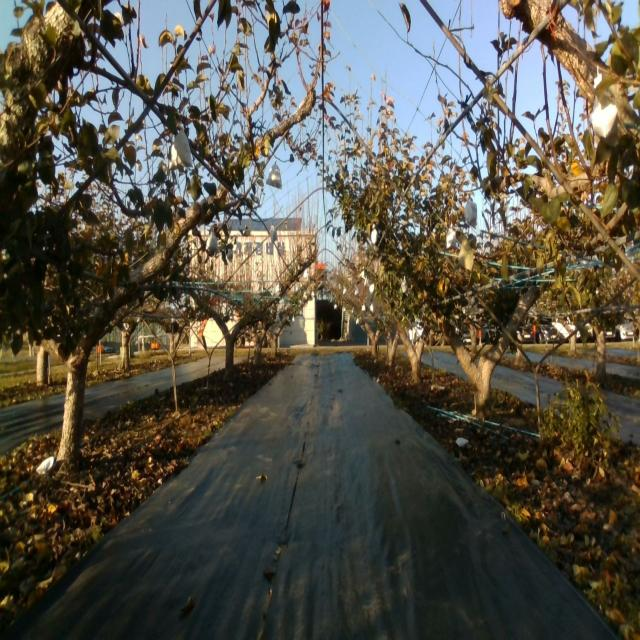pearbags: (590, 94, 617, 137), (167, 130, 192, 172), (266, 161, 282, 189), (206, 230, 219, 253), (464, 200, 476, 224), (445, 228, 457, 249)
